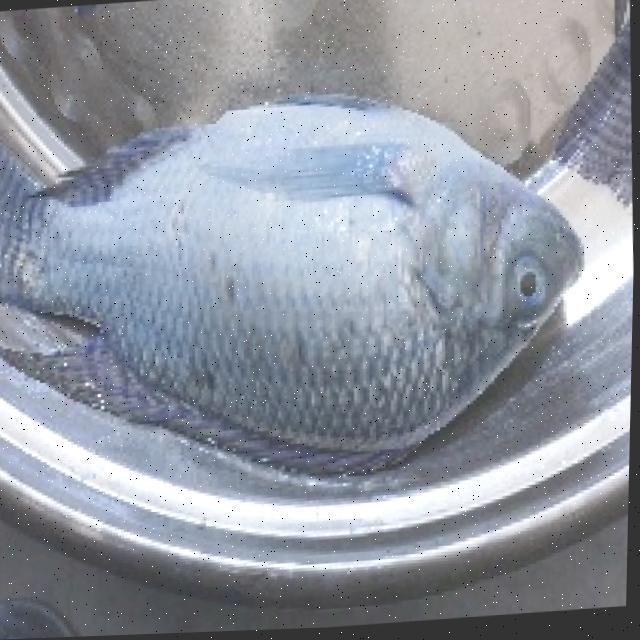Fresh: (0, 57, 638, 506)
